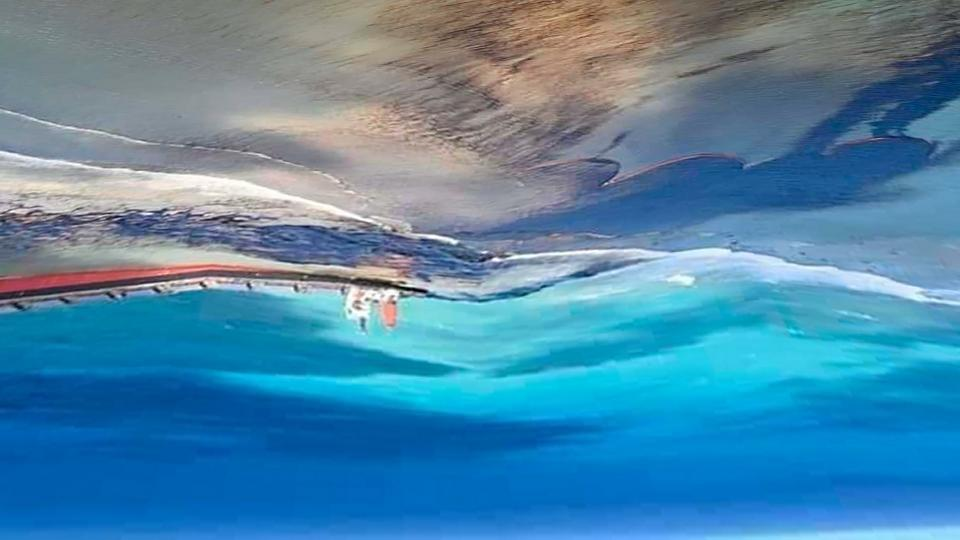Oil Pollution: (8, 92, 960, 297)
